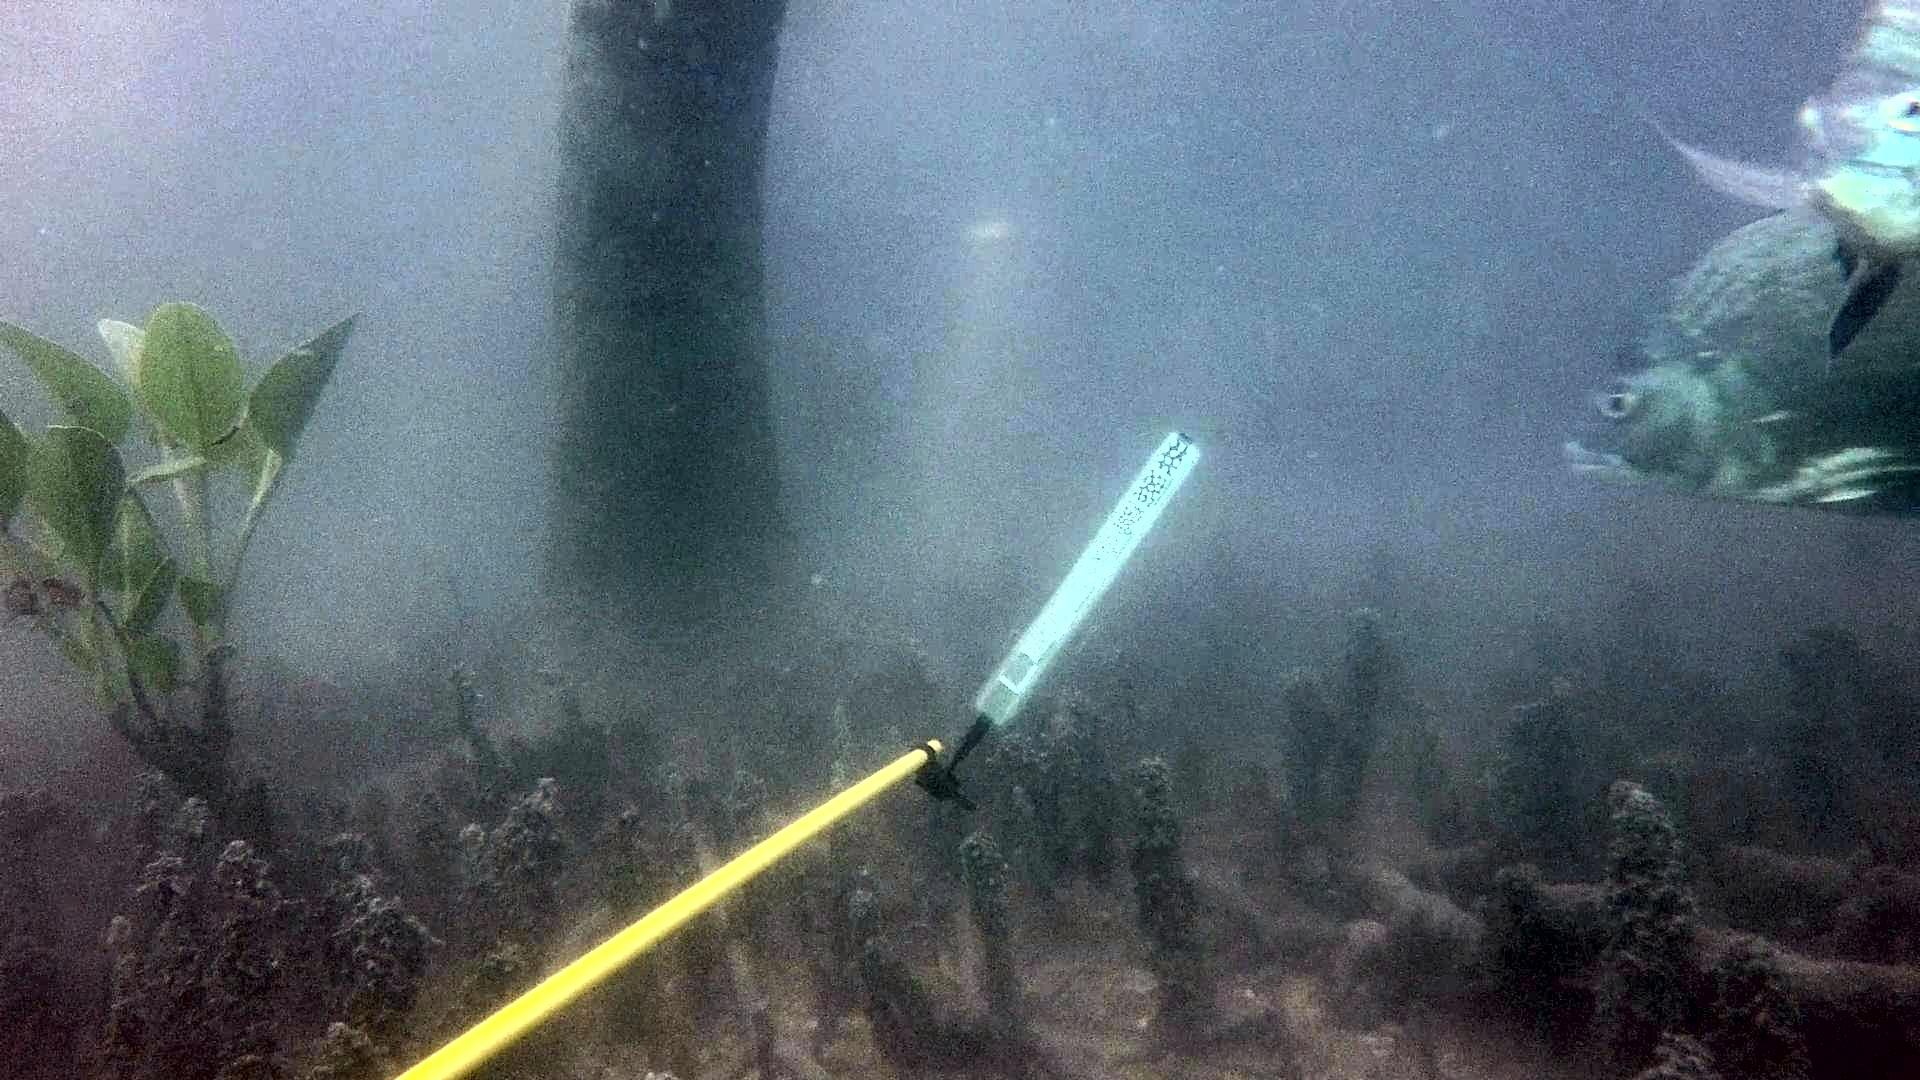acanthopagrus palmaris: (1555, 190, 1920, 529), (1647, 0, 1920, 373)
